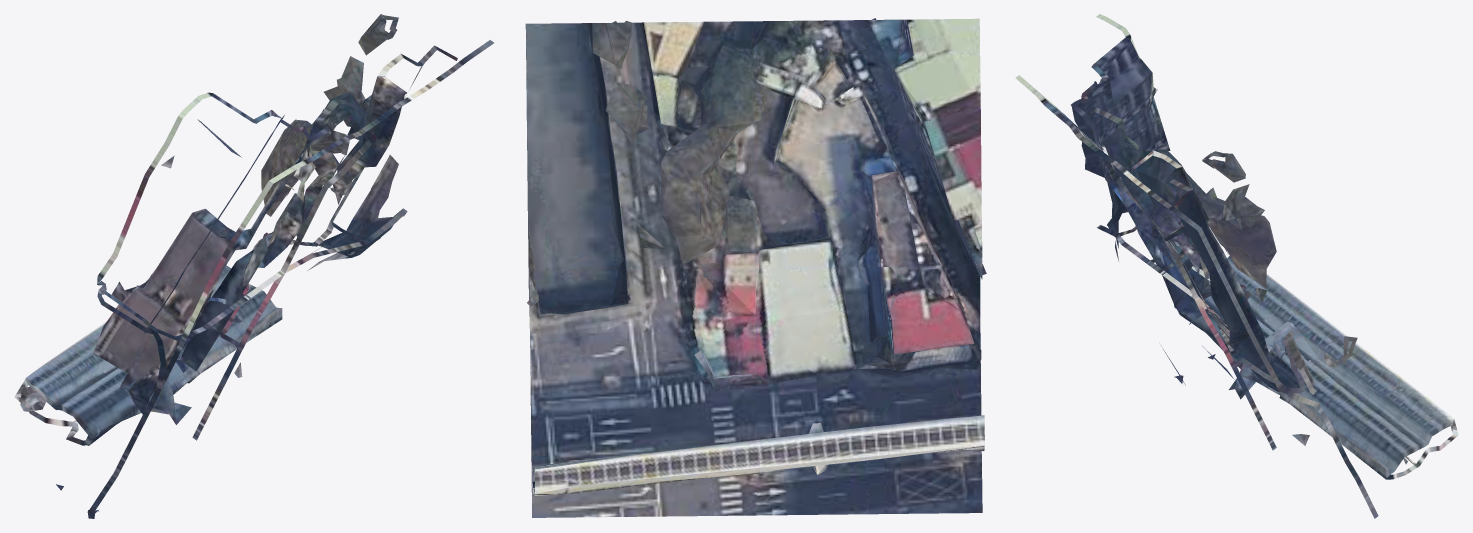
The picture shows the model from 3 angles, left to right: view 1: azimuth 30°, elevation 25°; view 2: azimuth 150°, elevation 25°; view 3: azimuth 270°, elevation 25°; orthographic projection. The views are drawn at different scales.
Size of the model in its own units: 86.65 by 77.39 by 79.96.
1 material, 1 textured.
